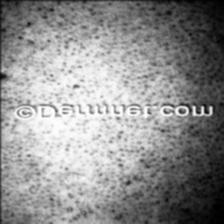Non-Cancerous Skin Condition: (0, 119, 224, 224), (0, 0, 224, 100)
